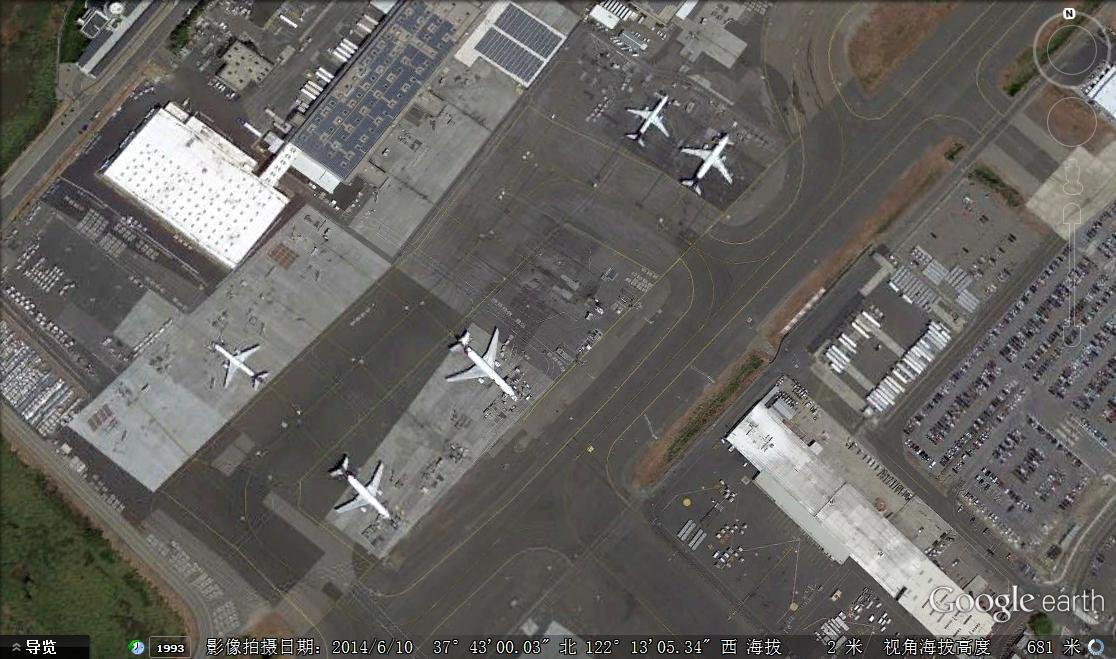aircraft: (441, 325, 517, 404), (325, 452, 393, 524), (678, 133, 741, 202), (211, 339, 274, 394), (621, 92, 675, 152)
